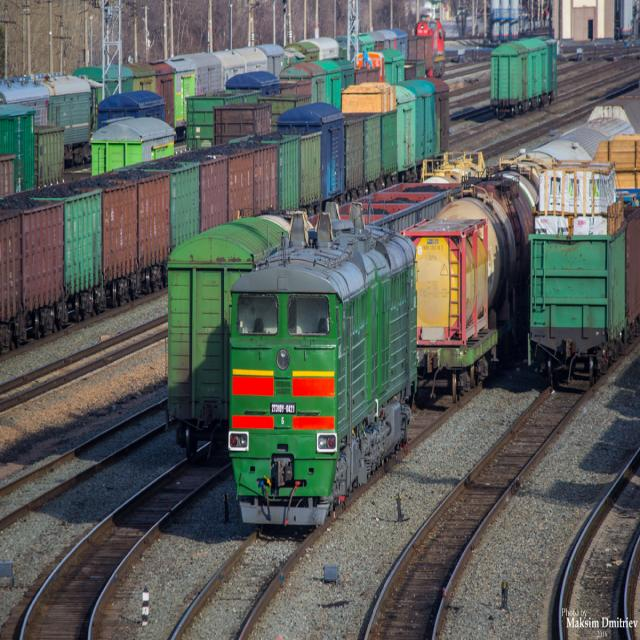boxcar: (164, 210, 290, 467), (274, 98, 346, 206), (86, 112, 178, 177), (94, 85, 168, 125)
cargo: (531, 156, 626, 234), (590, 127, 640, 203)
flatcar: (420, 319, 512, 404)
gondola: (528, 232, 628, 388), (0, 186, 66, 338), (49, 175, 103, 320), (90, 167, 139, 306), (128, 155, 170, 289), (147, 156, 200, 248)
locomotive: (221, 193, 377, 536), (374, 214, 421, 483)
tank: (403, 214, 491, 348)
